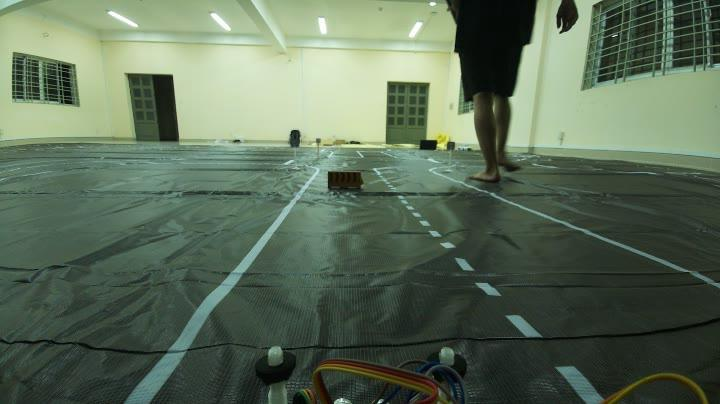roadblock: (326, 168, 364, 192)
